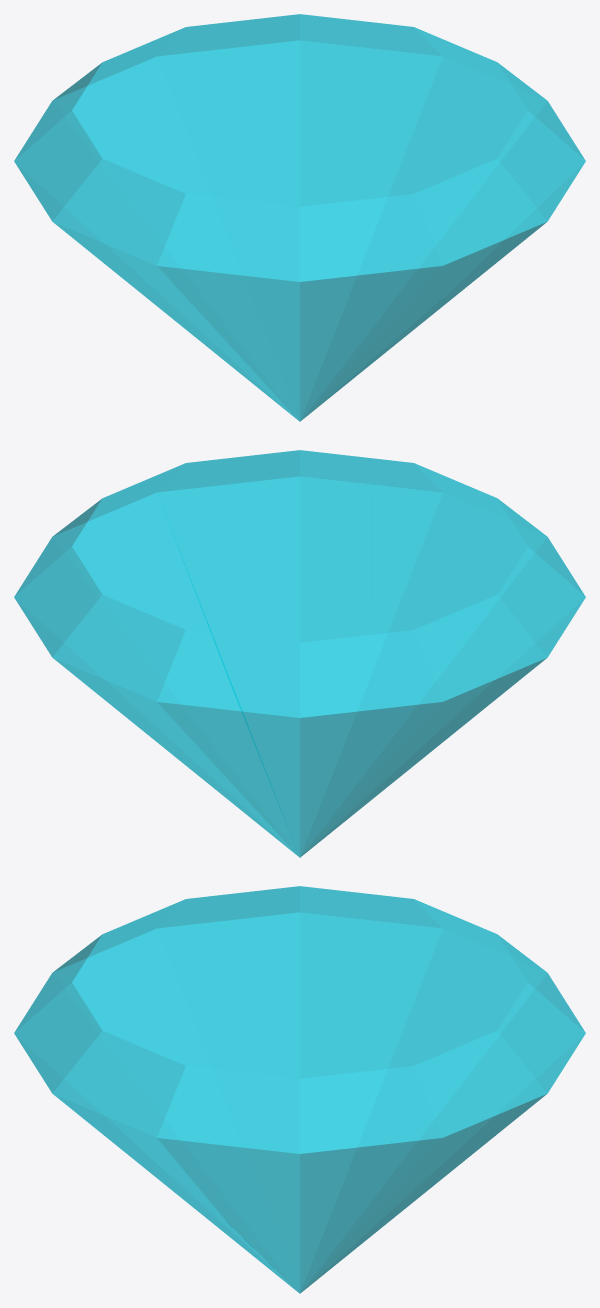
File: cash 3d.fbx
The picture shows the model from 3 angles, top to bottom: view 1: azimuth 30°, elevation 25°; view 2: azimuth 150°, elevation 25°; view 3: azimuth 270°, elevation 25°; orthographic projection.
Visible parts, largest first — view 1: pDisc1; view 2: pDisc1; view 3: pDisc1.
Part boxes in pixels (left/top/right/bottom): pDisc1: left=14, top=14, right=585, bottom=421; pDisc1: left=14, top=450, right=585, bottom=857; pDisc1: left=14, top=886, right=585, bottom=1293.
Bounding box in the file's own units: 2.04 × 1.23 × 2.04.
